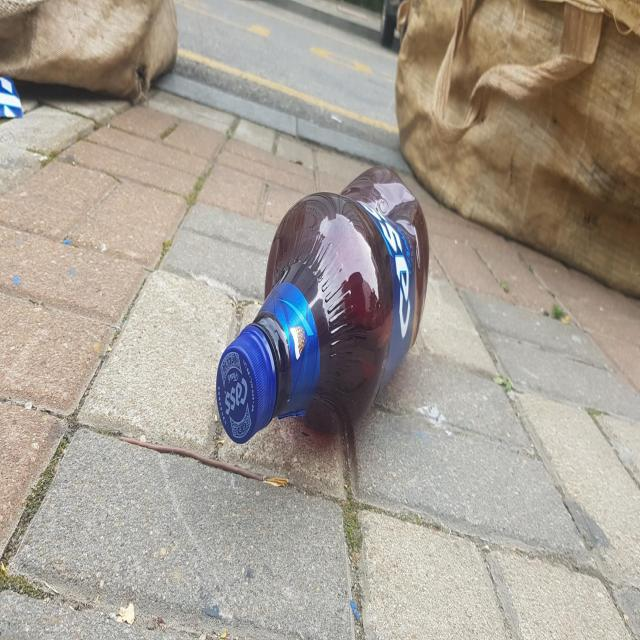plastic: (216, 167, 429, 442)
